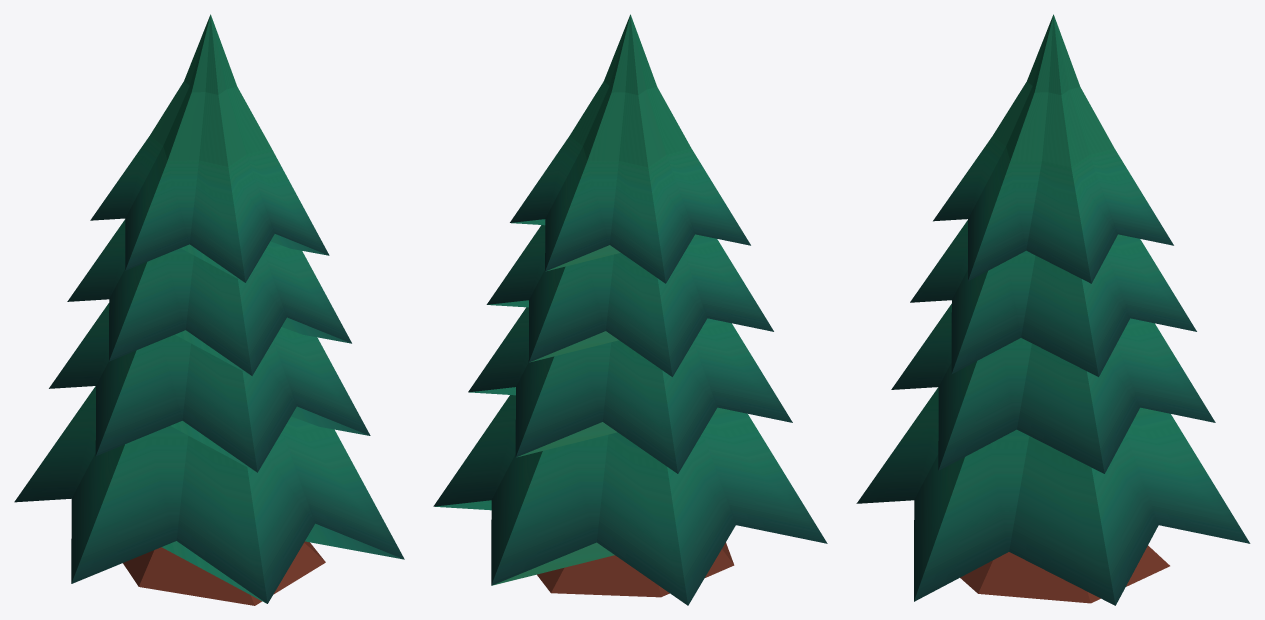
Rendered from BigTree.fbx.
3 views of the same model, side by side, from view 1: azimuth 30°, elevation 25°; view 2: azimuth 150°, elevation 25°; view 3: azimuth 270°, elevation 25° (orthographic).
Parts seen in each view (by area): view 1: Cylinder.007, Cylinder.004; view 2: Cylinder.007, Cylinder.004; view 3: Cylinder.007, Cylinder.004.
Boxes of the visible parts, <box> form: Cylinder.007: <box>14,14,404,603</box>; Cylinder.004: <box>123,541,325,605</box>; Cylinder.007: <box>433,14,827,605</box>; Cylinder.004: <box>537,542,734,597</box>; Cylinder.007: <box>856,14,1250,605</box>; Cylinder.004: <box>960,545,1169,603</box>.
Size of the model in its own units: 588 by 909 by 599.
